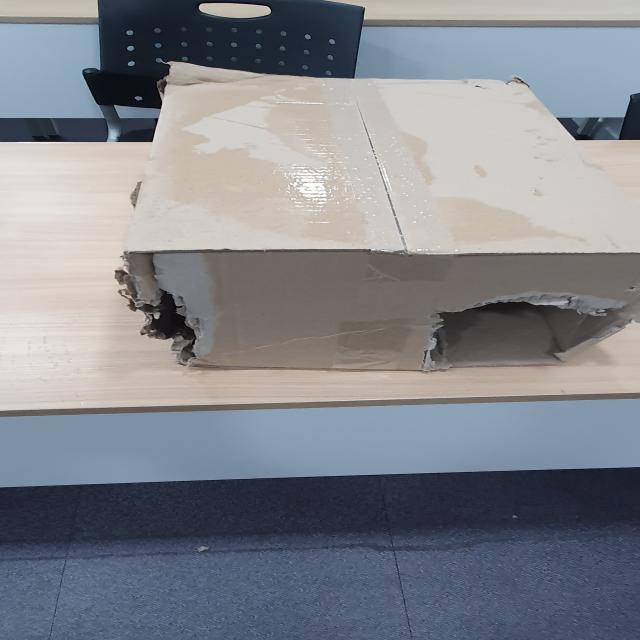hole: (420, 287, 620, 376), (129, 277, 214, 370)
wet: (140, 56, 579, 245)
